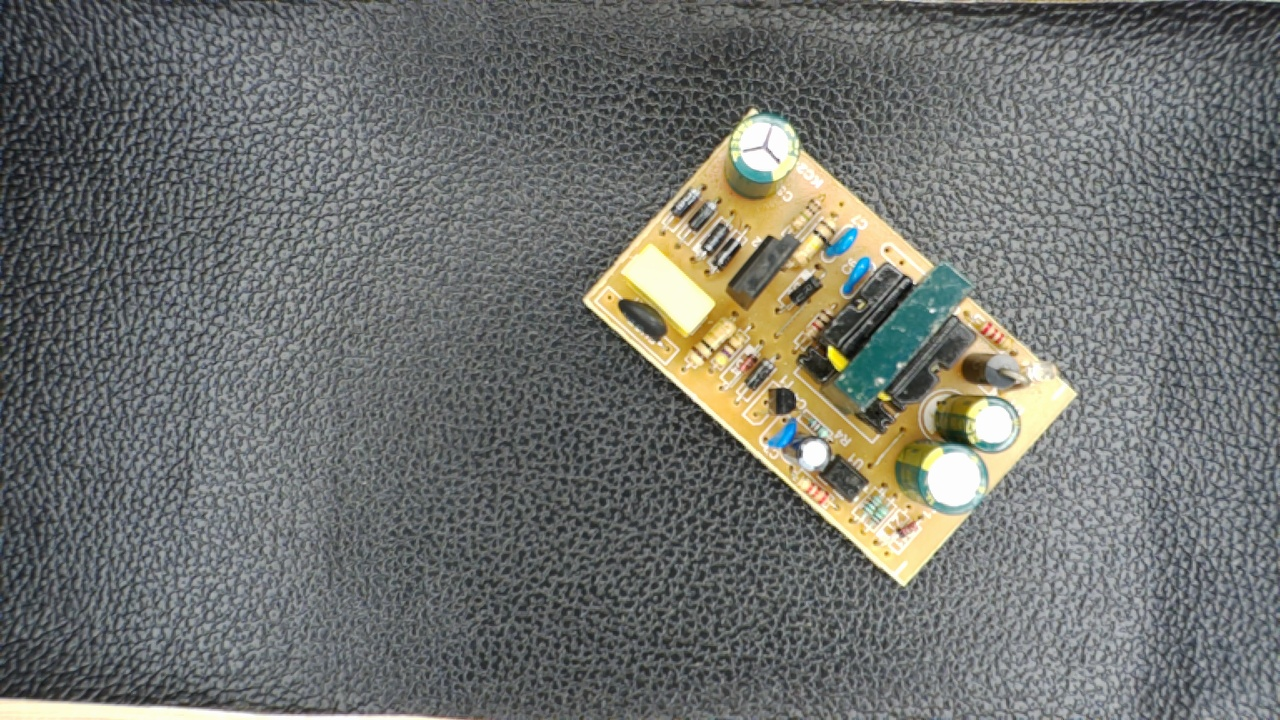fuse: (608, 291, 677, 356)
hv_capacitor: (722, 116, 804, 201)
optocoupler: (822, 450, 872, 509)
